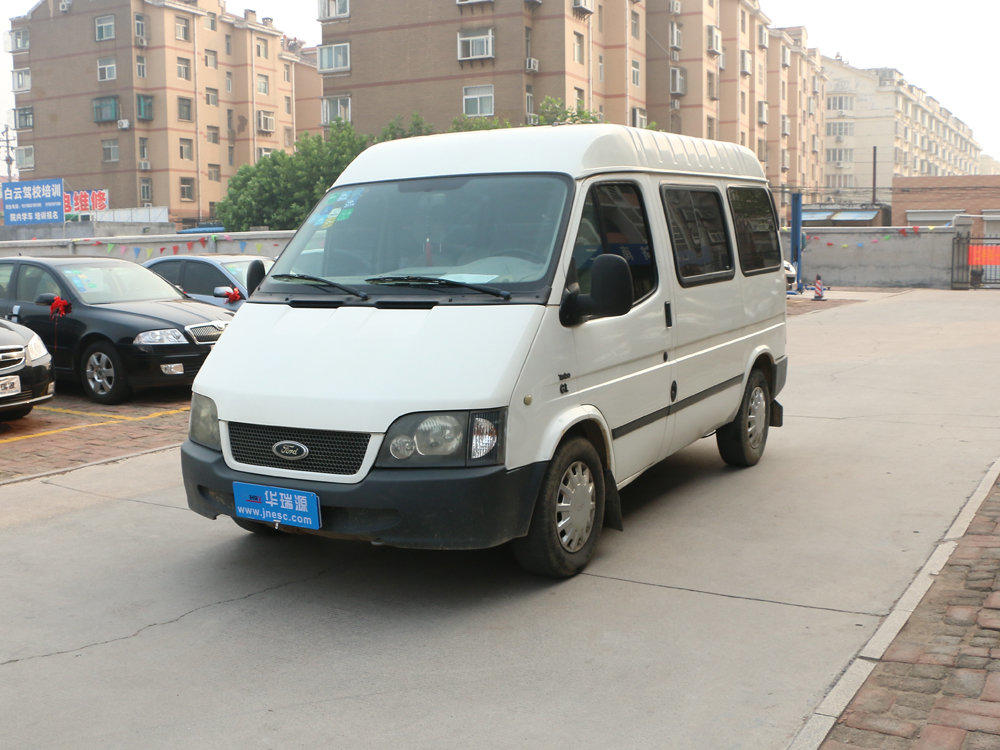midcar: (163, 82, 840, 570)
